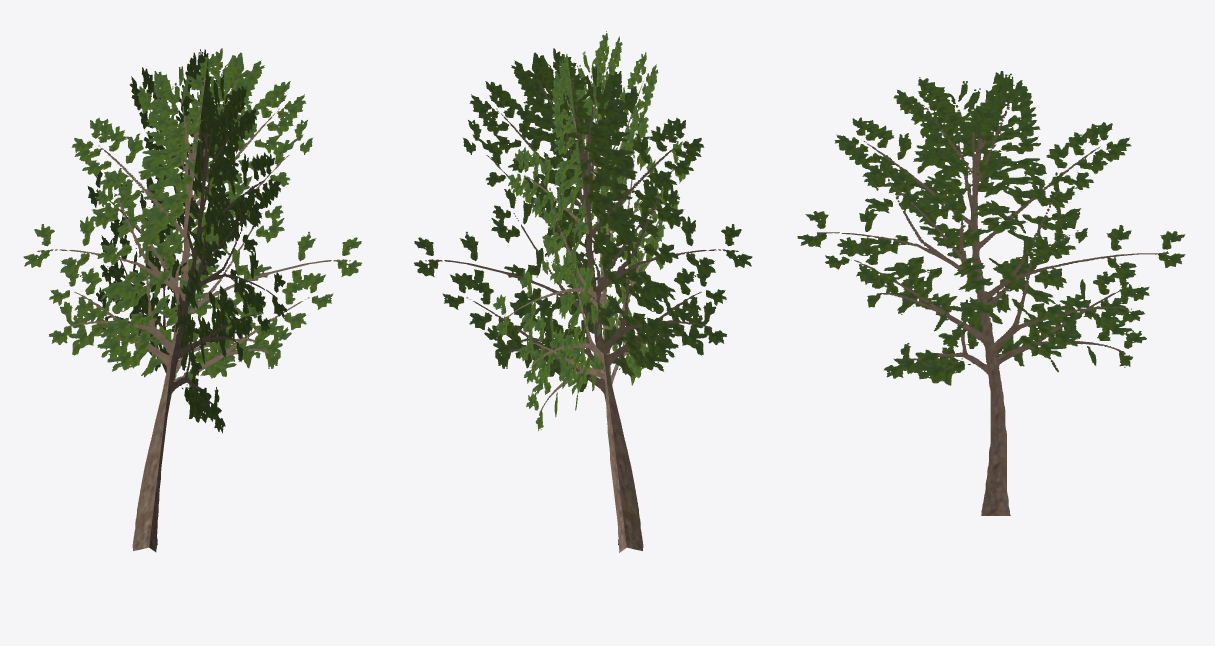
The model's file is myFirstTreeImposter.glb.
3 views of the same model, side by side, from view 1: azimuth 30°, elevation 25°; view 2: azimuth 150°, elevation 25°; view 3: azimuth 270°, elevation 25° (orthographic).
Parts seen in each view (by area): view 1: tree.001; view 2: tree.001; view 3: tree.001.
Boxes of the visible parts, bbox=[...] form: tree.001: bbox=[23, 48, 361, 552]; tree.001: bbox=[414, 31, 752, 552]; tree.001: bbox=[797, 71, 1185, 515].
Bounding box in the file's own units: 4.16 × 5.55 × 4.17.
Materials: 1 (1 with a texture image).
